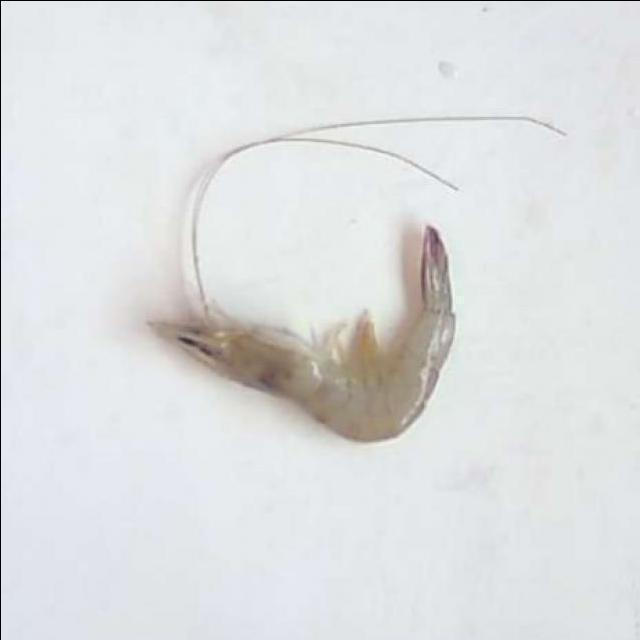shrimp: (147, 226, 453, 441)
